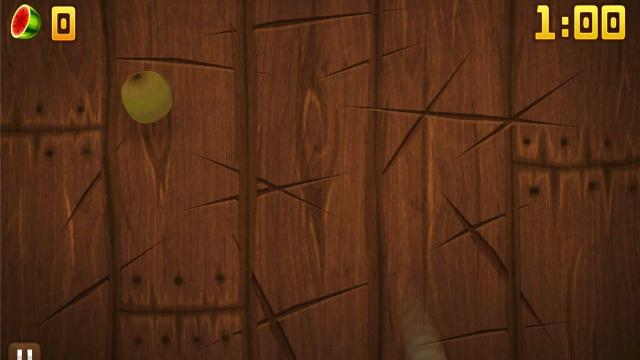fruit: (120, 70, 172, 124)
ignore: (8, 3, 44, 41)
